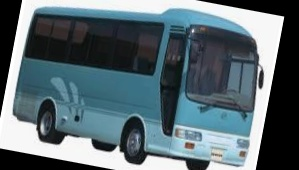bus: (7, 0, 275, 170)
